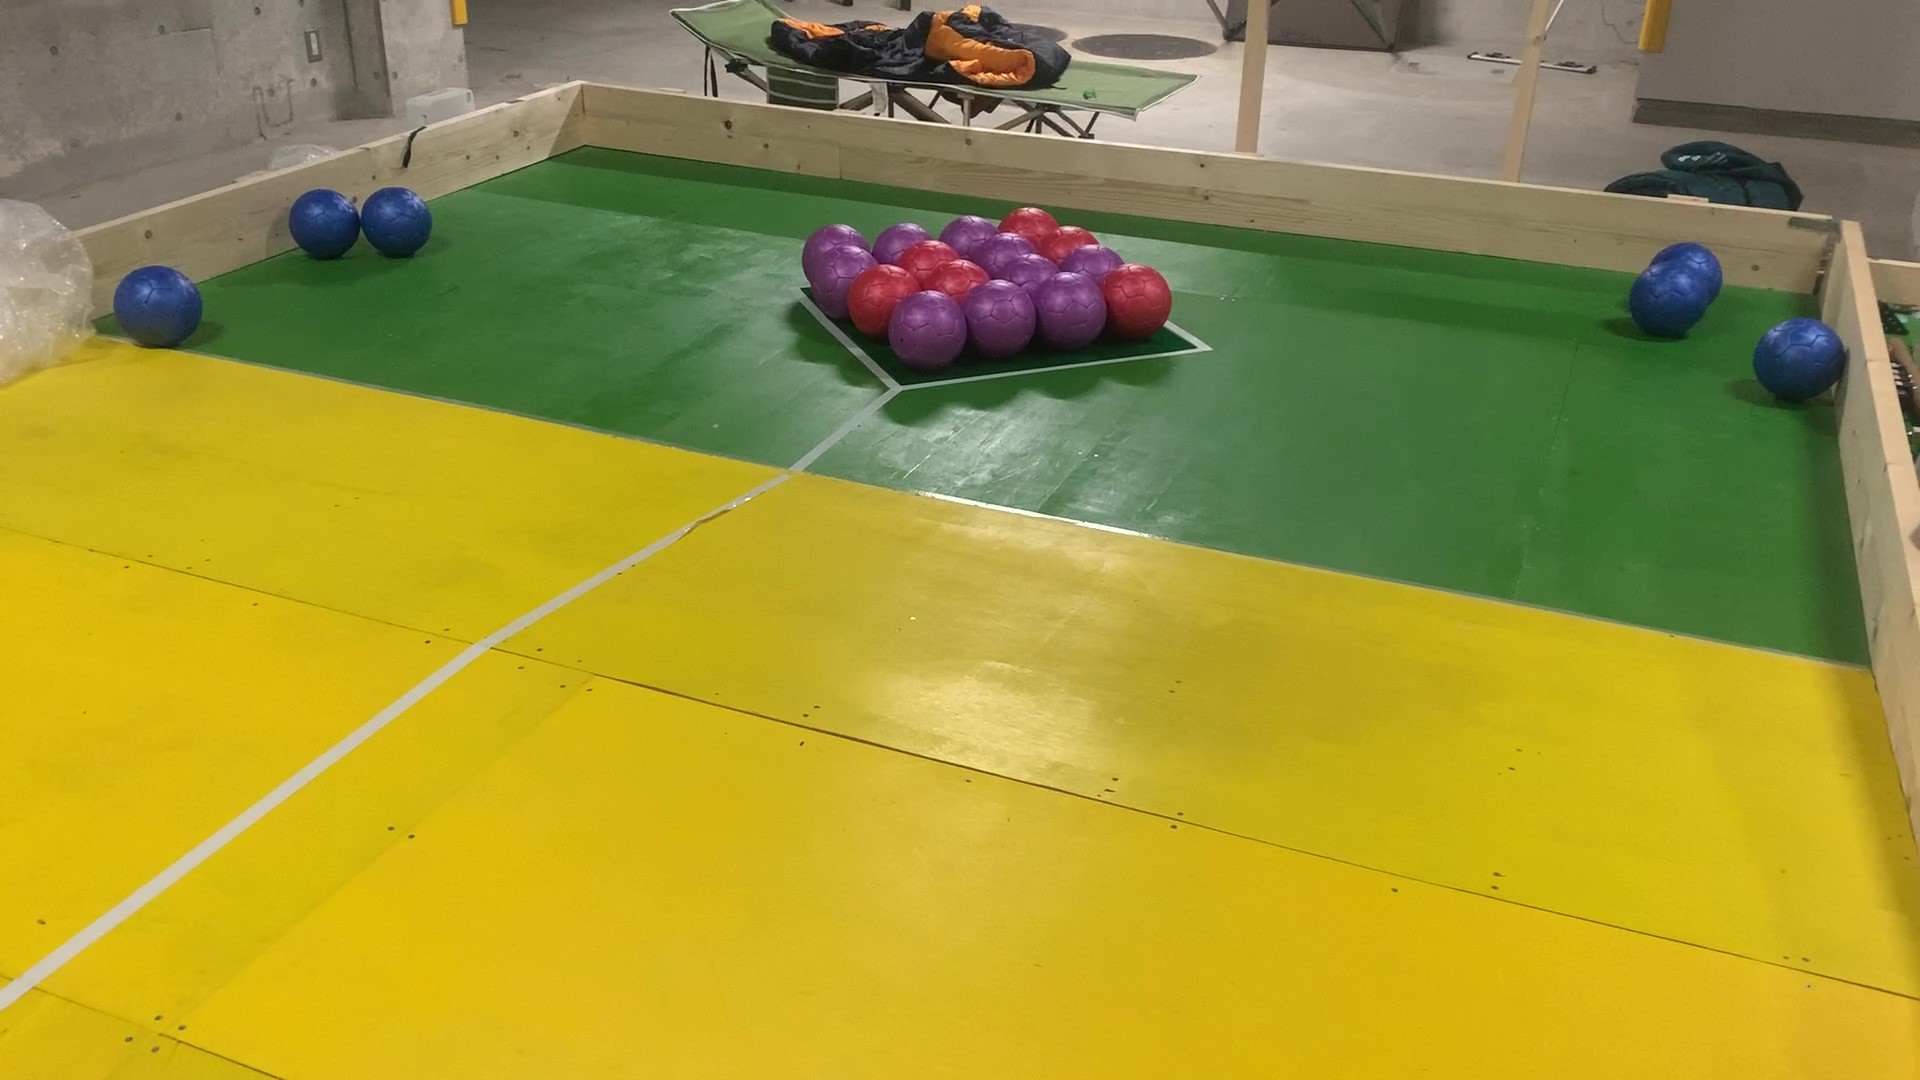blue: (112, 270, 194, 342), (1766, 328, 1826, 396), (294, 194, 351, 257), (368, 195, 422, 253), (1636, 276, 1693, 328), (1669, 243, 1710, 272)
purple: (973, 294, 1030, 352), (907, 294, 952, 360), (1046, 282, 1091, 340), (822, 256, 849, 320), (878, 223, 906, 264), (944, 220, 992, 244), (978, 240, 1029, 260), (1006, 264, 1059, 281), (814, 229, 856, 248), (1069, 255, 1114, 270)
red: (1117, 274, 1163, 335), (855, 265, 891, 336), (1006, 207, 1054, 233), (909, 244, 952, 272), (1047, 229, 1093, 253), (942, 266, 986, 290)
